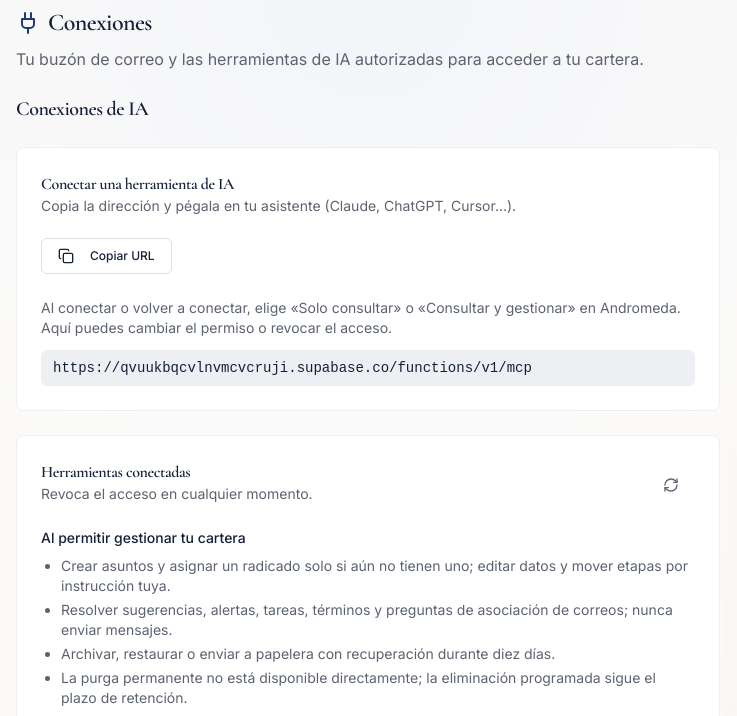
Test: SettingsConnections rendered permission boundaries › clears stale manage state on a failed refresh and permits changes only after a successful refresh
The image size is (737, 716).
Click the button named "Actualizar lista" at (671, 485), box [647,467,695,503]
(page scrolled)
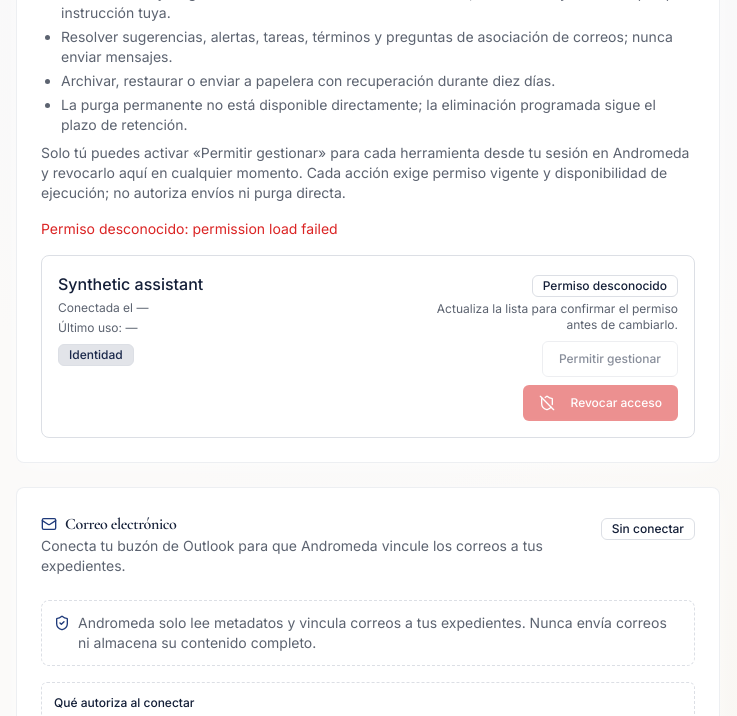
Expected: the message "Permiso desconocido: permission load failed" is shown, [41,220,338,237]
Expected: the button "Permitir gestionar" is disabled
Click the button "Permitir gestionar" at (610, 359), box [542,341,678,377]
(page scrolled)
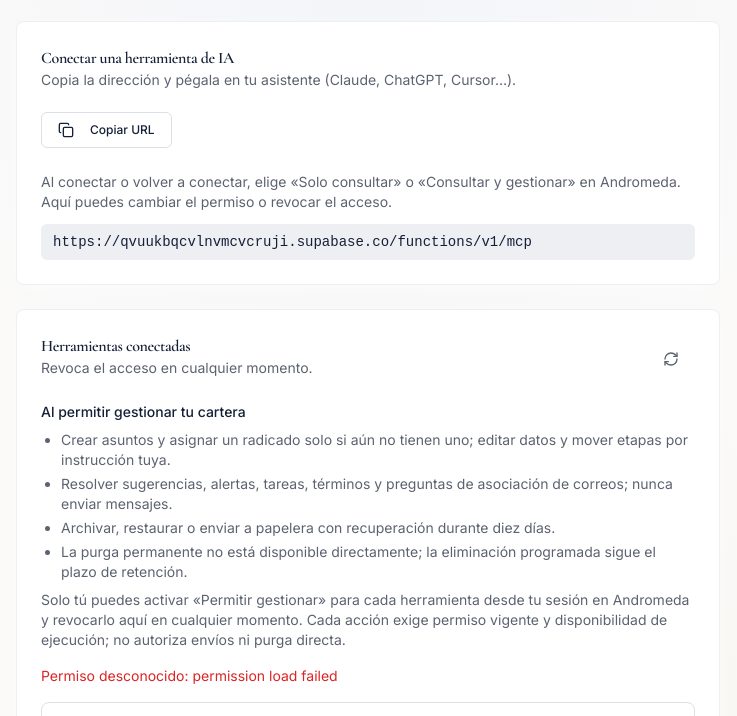
Click the button named "Actualizar lista" at (671, 359), box [647,341,695,377]
(page scrolled)
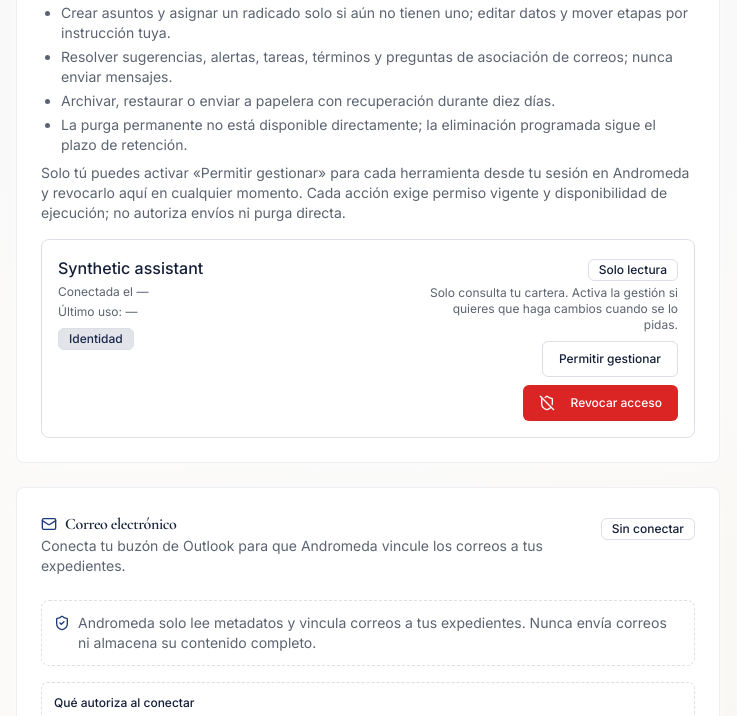
Expected: the text "Solo lectura" is shown, [588,259,678,281]
Expected: the button "Permitir gestionar" is enabled, [542,341,678,377]
